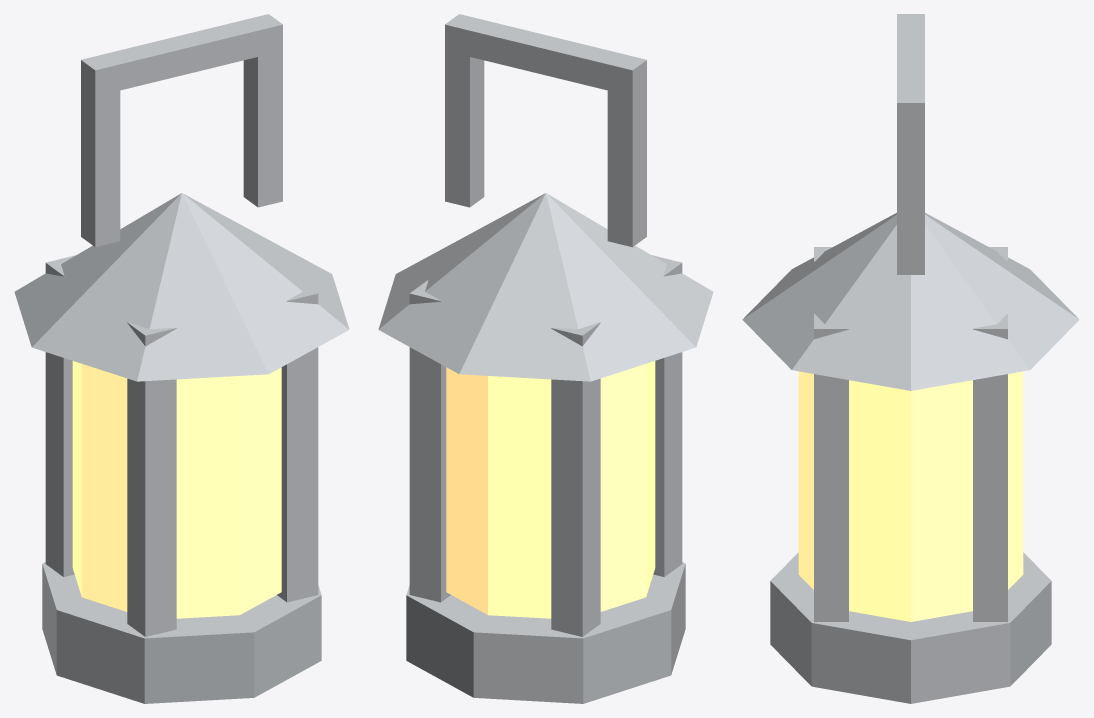
Rendered from lantern.glb.
The picture shows the model from 3 angles, left to right: view 1: azimuth 30°, elevation 25°; view 2: azimuth 150°, elevation 25°; view 3: azimuth 270°, elevation 25°; orthographic projection. The views are drawn at different scales.
Parts seen in each view (by area): view 1: hood, glass.008, base.003, frame.019, frame.020, handle_top, frame.018, handle, handle.001; view 2: hood, glass.008, base.003, frame.018, frame.017, handle_top, frame.019, handle, handle.001; view 3: hood, glass.008, base.003, frame.017, frame.020, handle.001, handle_top.
Boxes of the visible parts, x1=… form: hood: x1=14, y1=193, x2=349, y2=381; glass.008: x1=72, y1=361, x2=281, y2=618; base.003: x1=42, y1=562, x2=321, y2=703; frame.019: x1=127, y1=322, x2=176, y2=636; frame.020: x1=277, y1=280, x2=318, y2=602; handle_top: x1=81, y1=14, x2=282, y2=96; frame.018: x1=45, y1=255, x2=76, y2=576; handle: x1=81, y1=80, x2=120, y2=247; handle.001: x1=243, y1=44, x2=282, y2=207; hood: x1=378, y1=193, x2=713, y2=381; glass.008: x1=446, y1=361, x2=655, y2=618; base.003: x1=406, y1=562, x2=685, y2=703; frame.018: x1=551, y1=322, x2=600, y2=636; frame.017: x1=409, y1=280, x2=450, y2=602; handle_top: x1=445, y1=14, x2=646, y2=96; frame.019: x1=651, y1=255, x2=682, y2=576; handle: x1=607, y1=80, x2=646, y2=247; handle.001: x1=445, y1=44, x2=484, y2=207; hood: x1=742, y1=213, x2=1079, y2=390; glass.008: x1=798, y1=371, x2=1023, y2=621; base.003: x1=770, y1=552, x2=1051, y2=703; frame.017: x1=973, y1=314, x2=1007, y2=621; frame.020: x1=814, y1=314, x2=848, y2=621; handle.001: x1=897, y1=122, x2=924, y2=274; handle_top: x1=897, y1=14, x2=924, y2=128.
Size of the model in its own units: 0.48 by 0.92 by 0.48.
